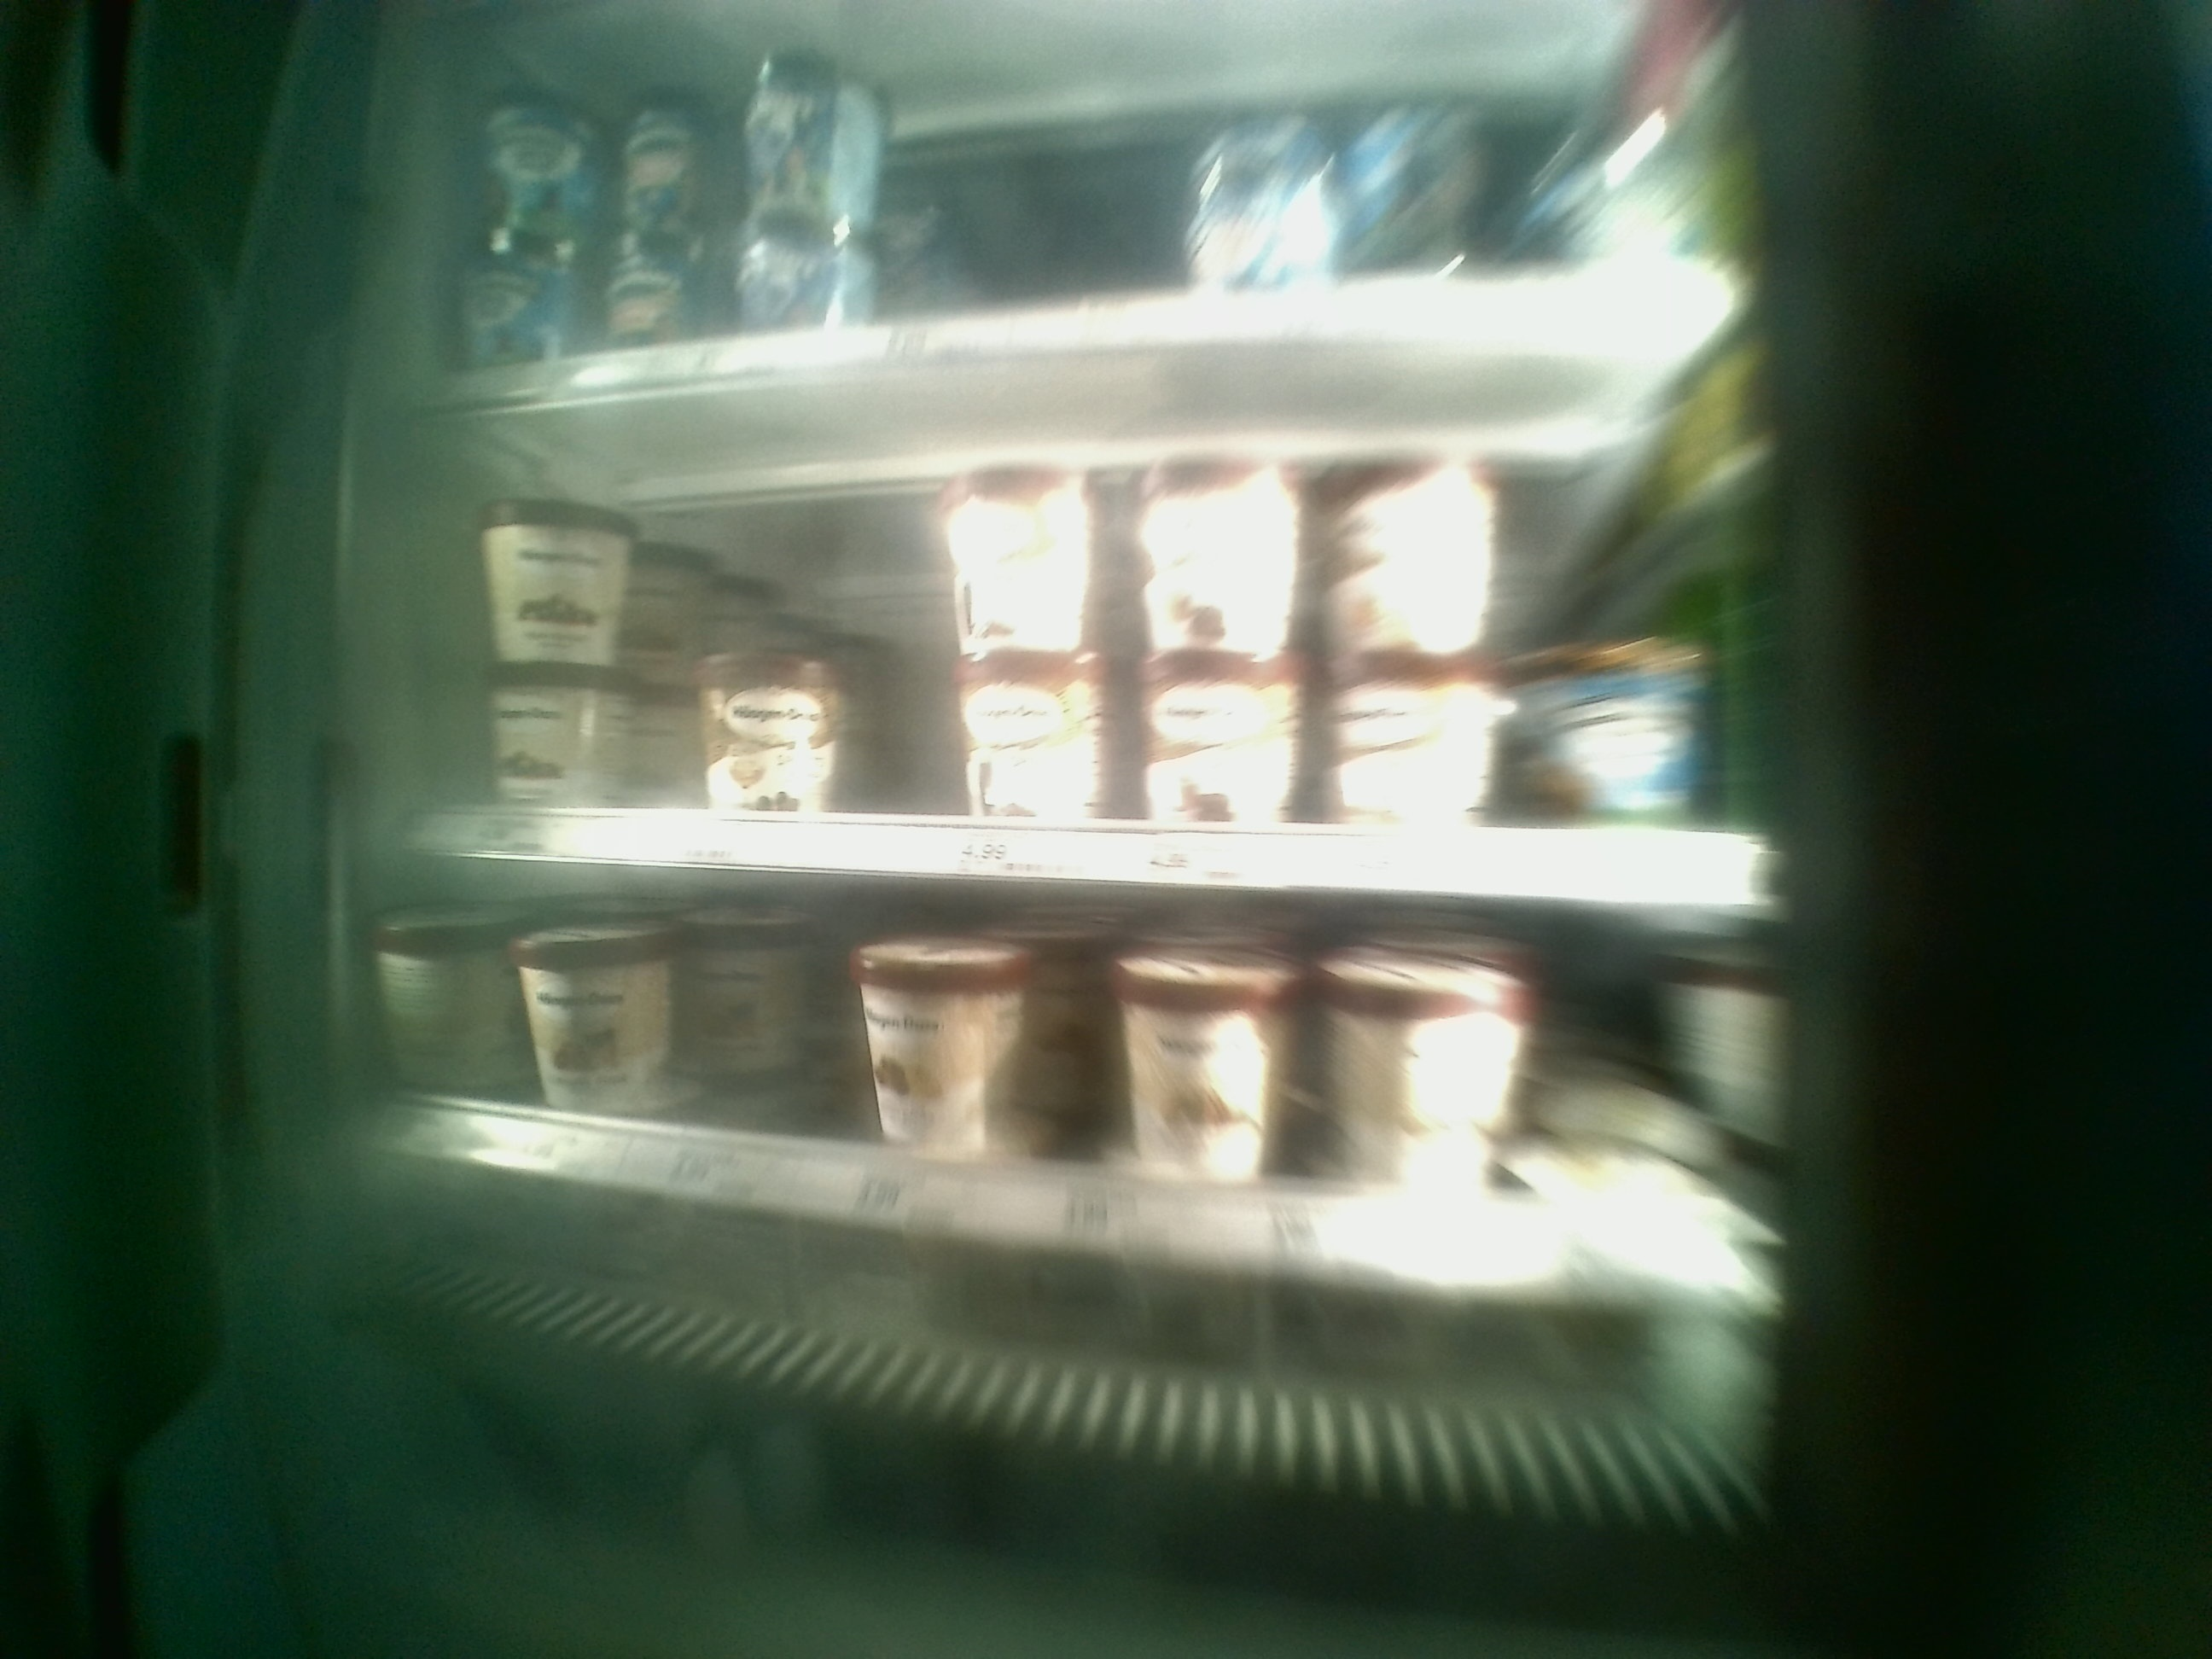shelf: (406, 340, 1777, 915)
